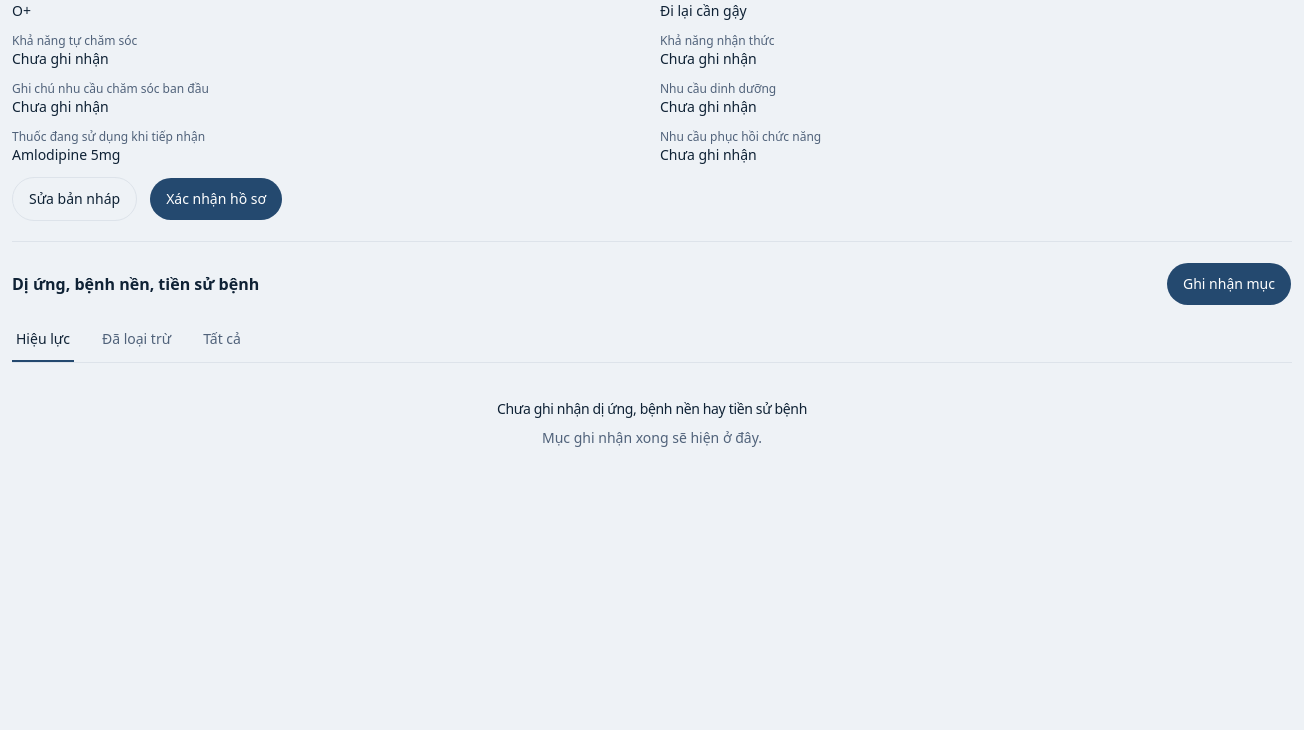
HealthTab, hồ sơ sức khỏe ban đầu › FR_017_412_baoDuLieuDaDoi_vaChoXemGiaTriMoi
The width and height of the screenshot is (1304, 730).
Step 1. Click the button "Sửa bản nháp" → (75, 199), box [12,177,137,221]
(page scrolled)
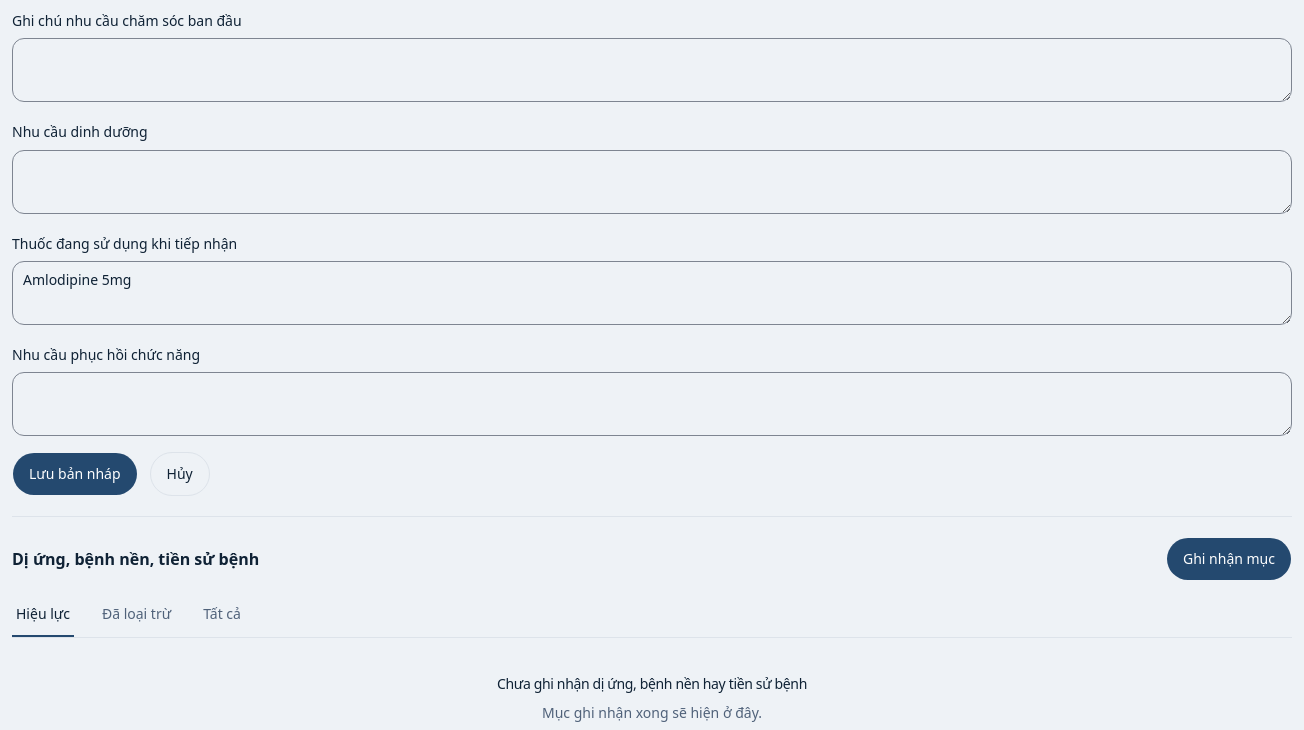
Step 2. Click the button "Lưu bản nháp" → (75, 474), box [12,452,138,496]
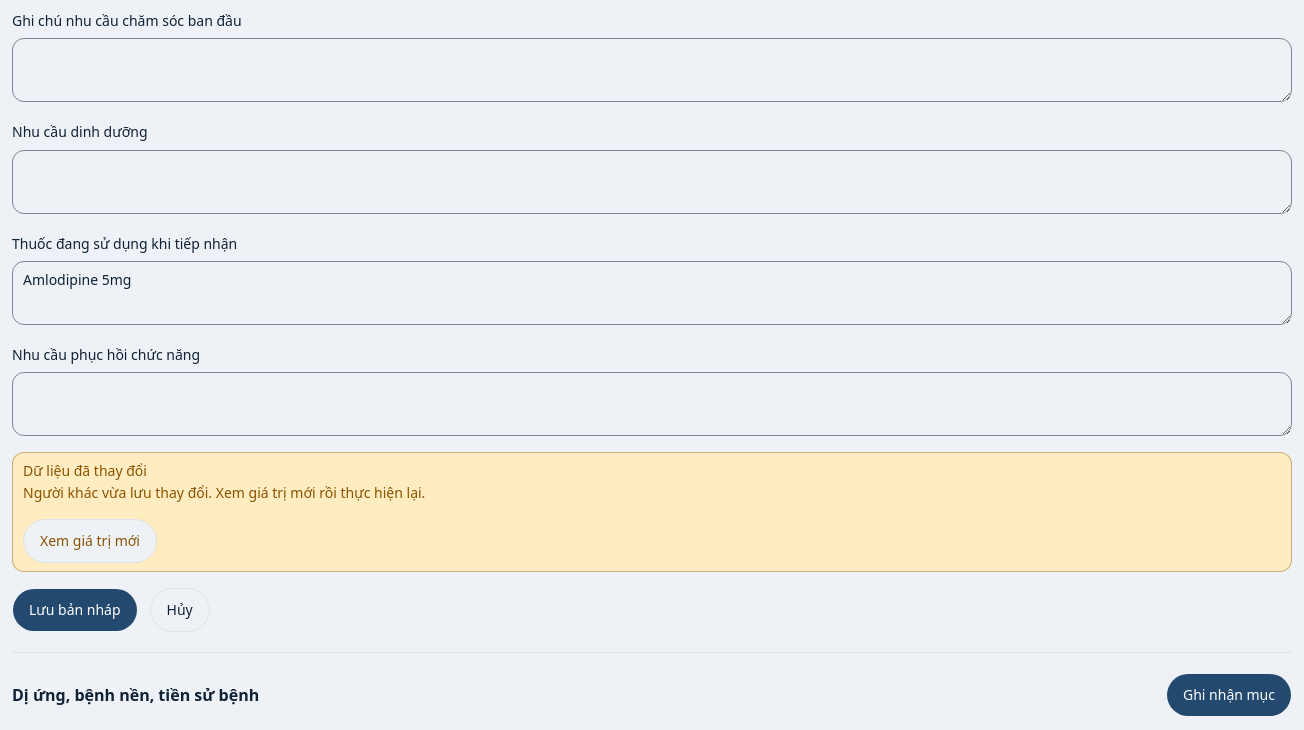
expect the text "Dữ liệu đã thay đổi" is shown: met, box [23,461,147,480]
expect the button "Xem giá trị mới" is shown: met, box [23,519,157,563]
